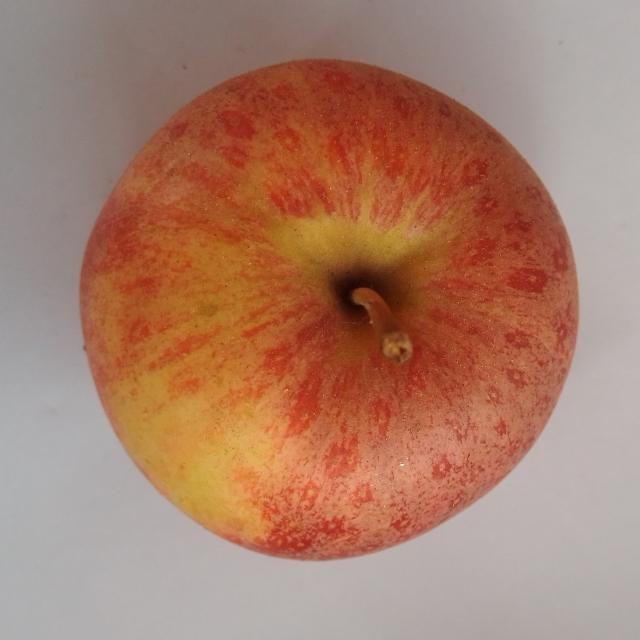Fresh Apple: (70, 54, 582, 568)
